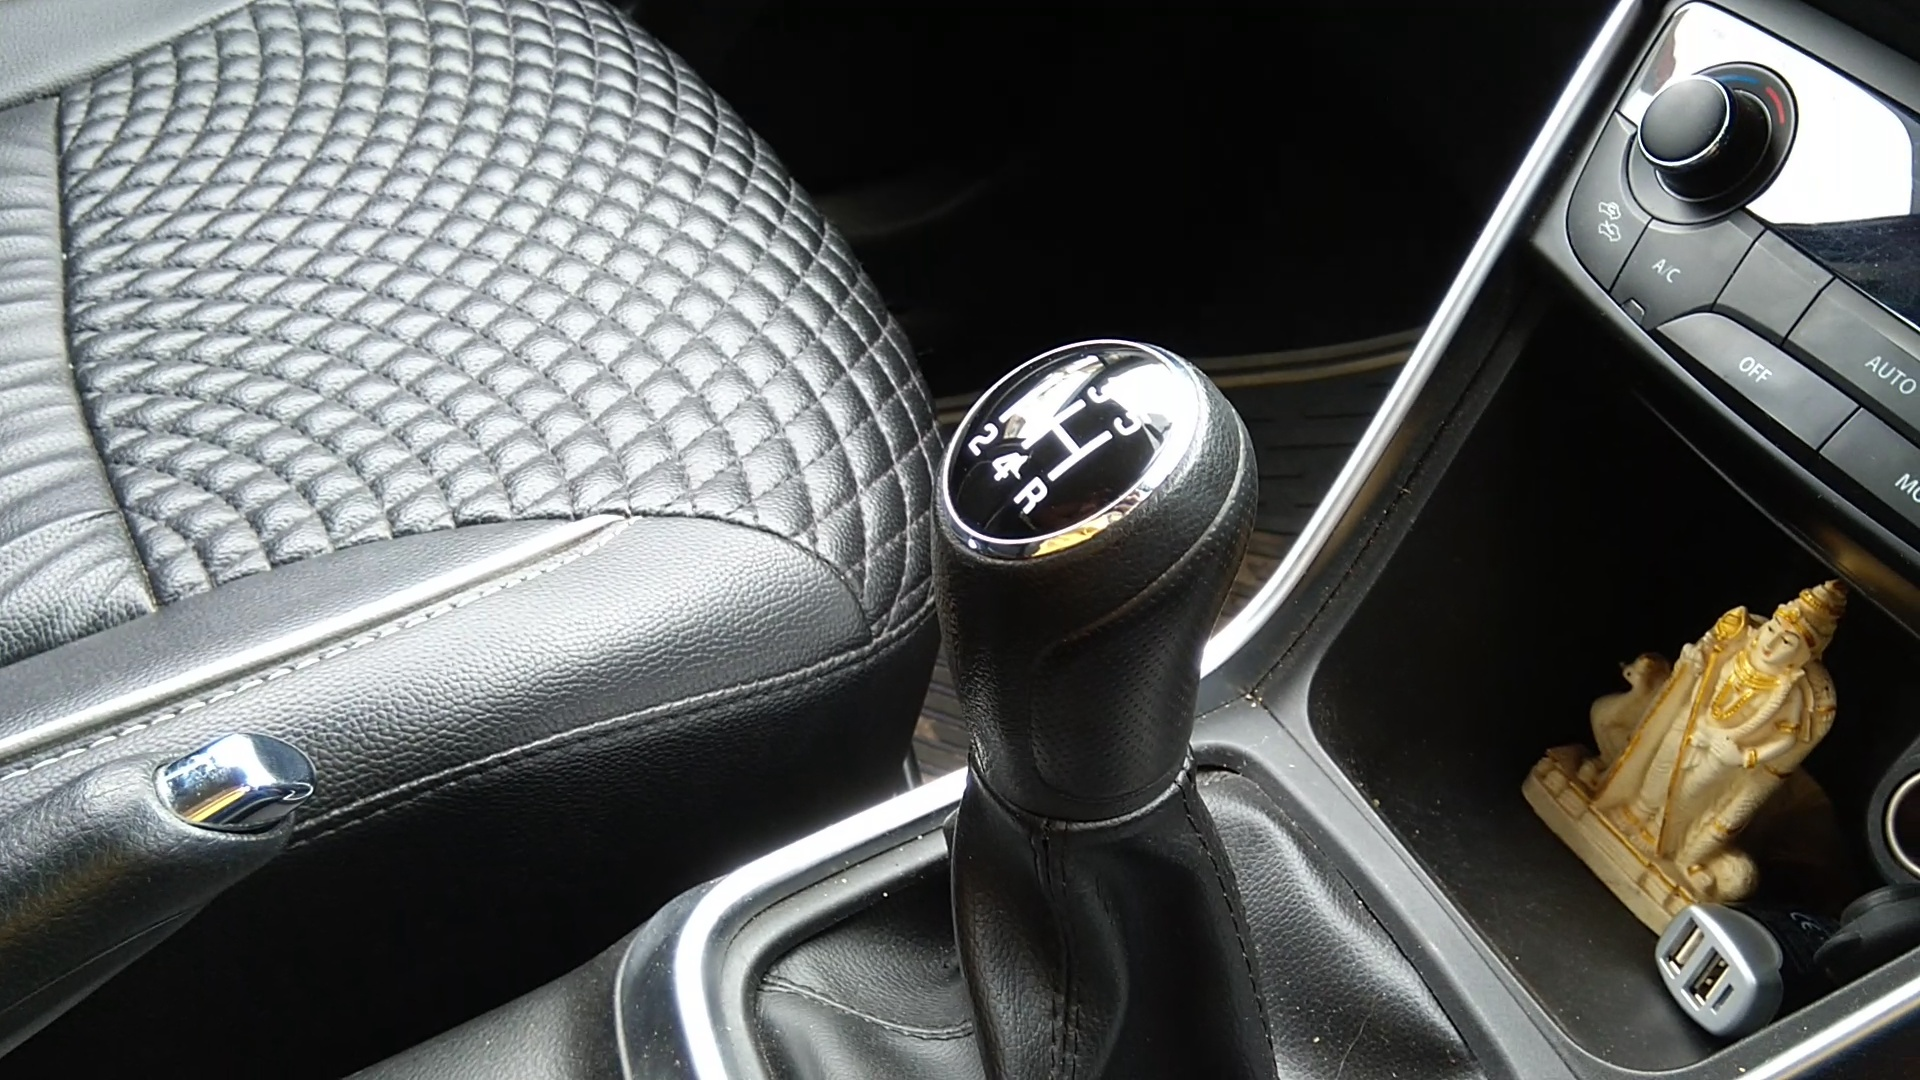manual_gear: (934, 335, 1271, 860)
